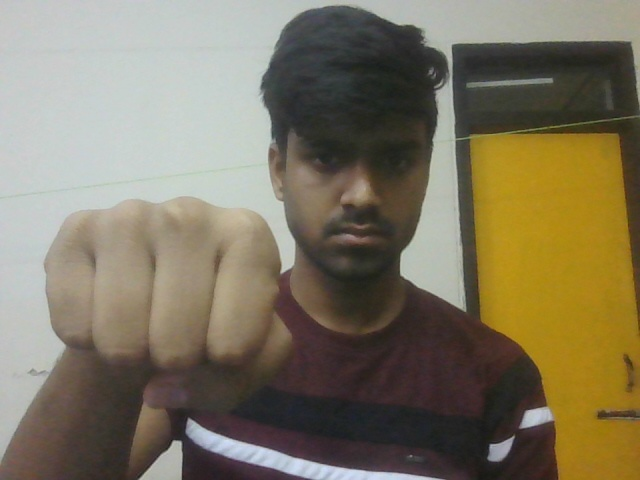yes: (20, 184, 335, 430)
